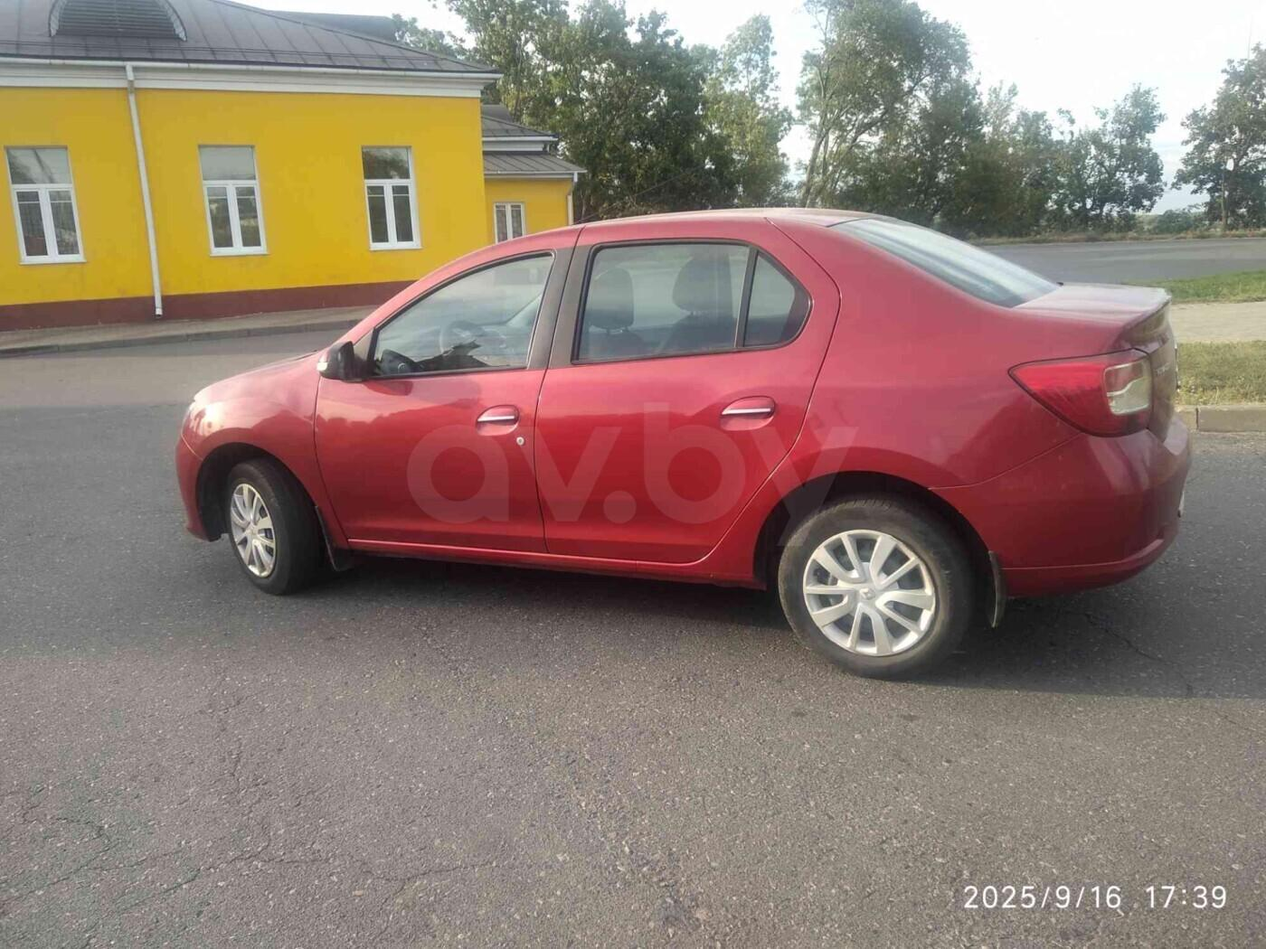Logan_2013-2018: (173, 200, 1194, 678)
